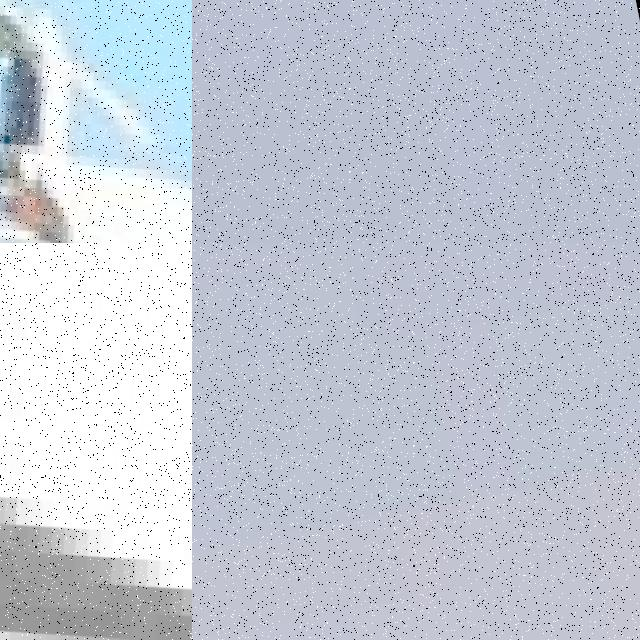drone: (0, 243, 192, 640), (0, 0, 192, 243)
